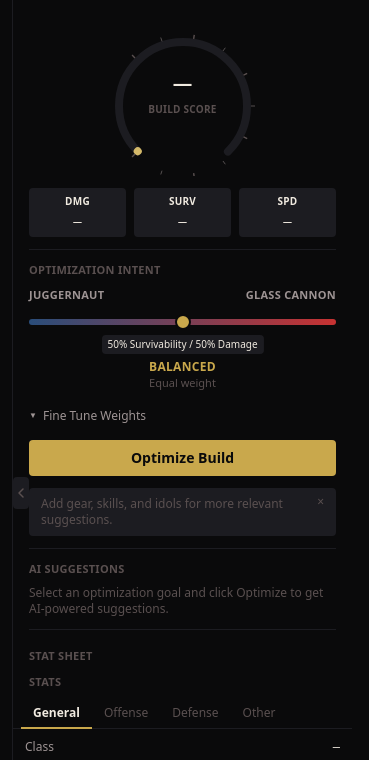
Test: RightPanel › dismisses context note when × button is clicked
expect the element with test id "context-note" is shown: met, box [29,488,336,536]
Click the button named "Dismiss".
click(321, 502)  # box [317,496,324,508]
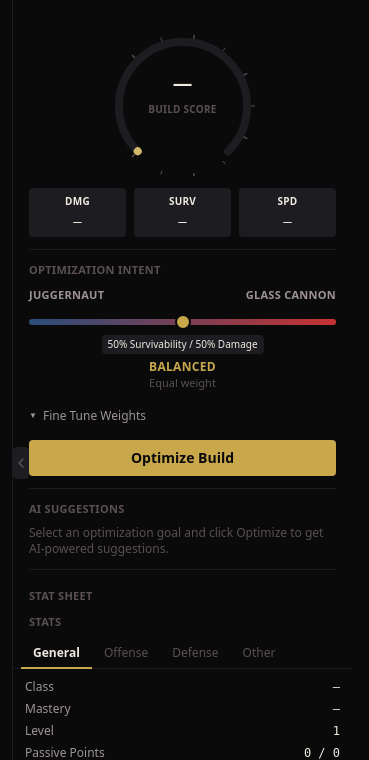
expect the element with test id "context-note" is gone: met
